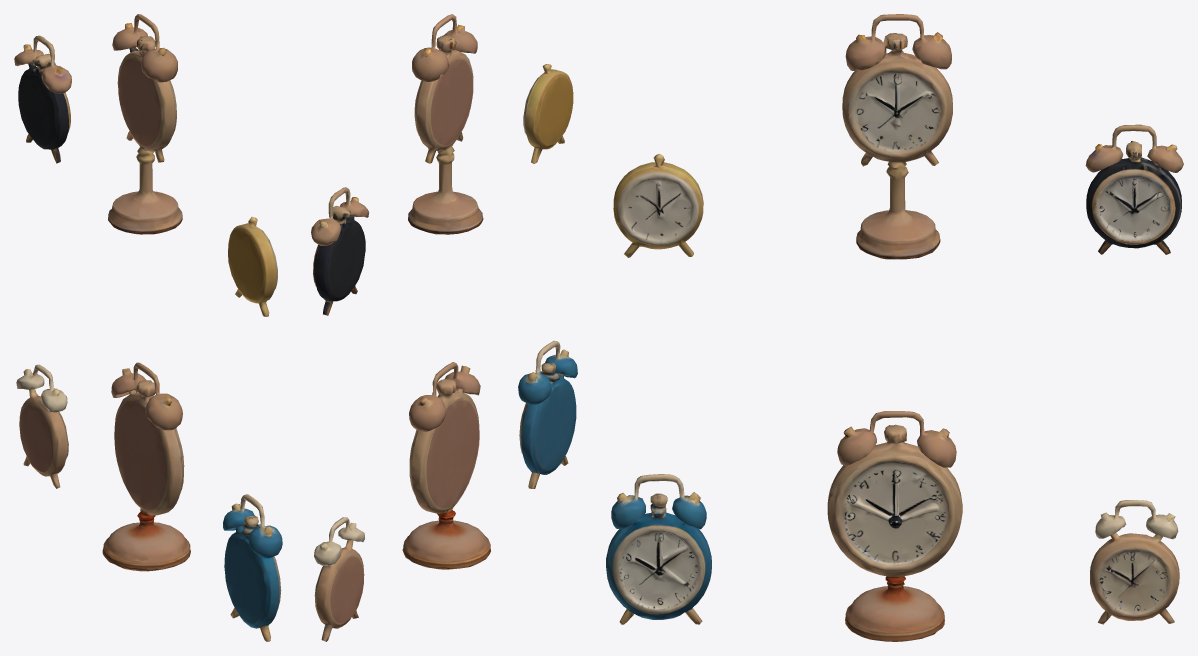
Rendered from clock2.fbx.
The picture shows the model from 3 angles, left to right: view 1: azimuth 30°, elevation 25°; view 2: azimuth 150°, elevation 25°; view 3: azimuth 270°, elevation 25°; orthographic projection. The views are drawn at different scales.
Visible parts, largest first — view 1: tripo_node_5d03c0d5; view 2: tripo_node_5d03c0d5; view 3: tripo_node_5d03c0d5.
Part boxes in pixels (<box>): tripo_node_5d03c0d5: <box>14,14,282,641</box>; tripo_node_5d03c0d5: <box>311,14,577,641</box>; tripo_node_5d03c0d5: <box>606,14,1183,641</box>.
Bounding box in the file's own units: 0.149 × 0.9998 × 0.8589.
1 material, 1 textured.
